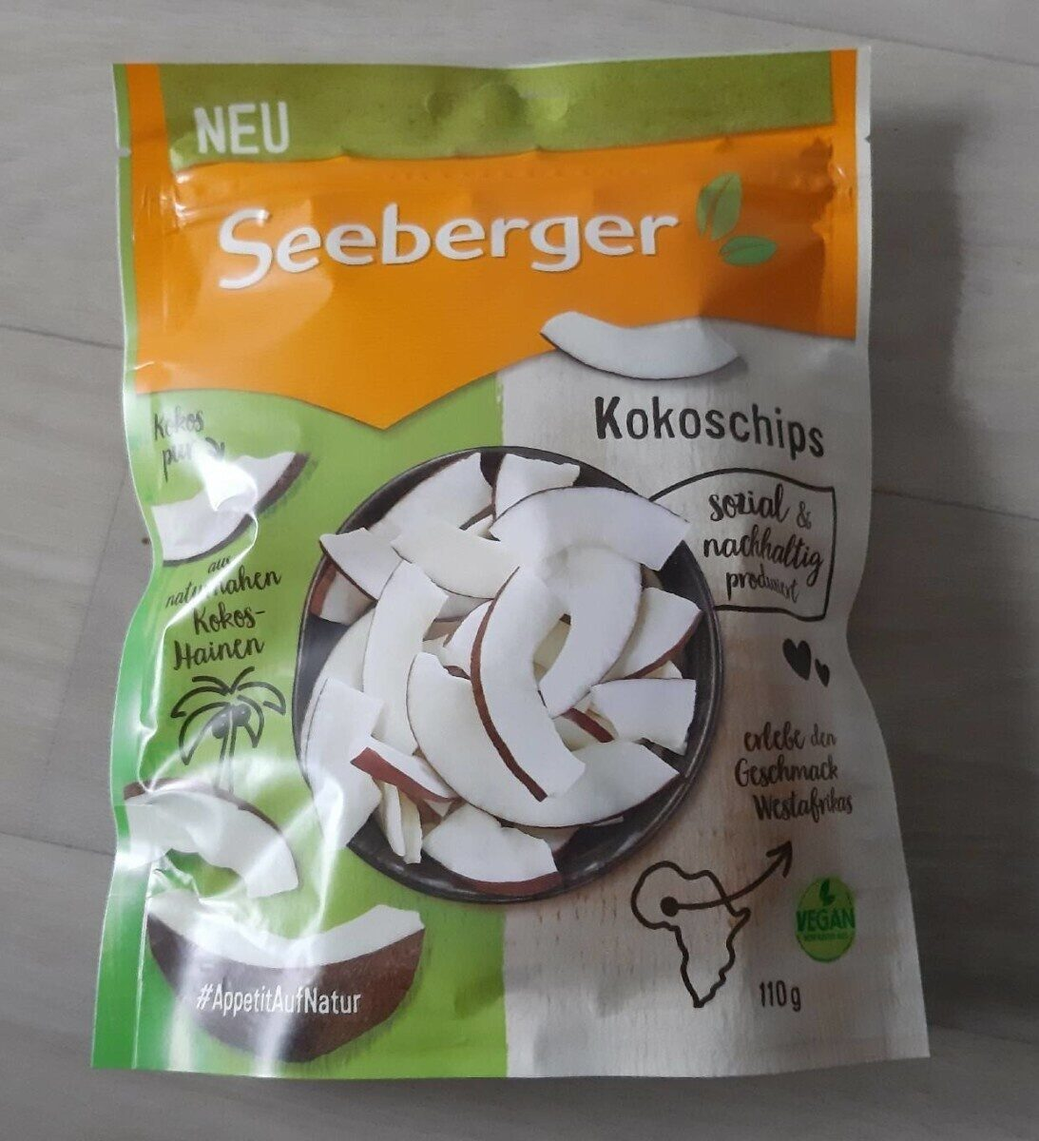Kokoschips: (52, 57, 987, 1084)
